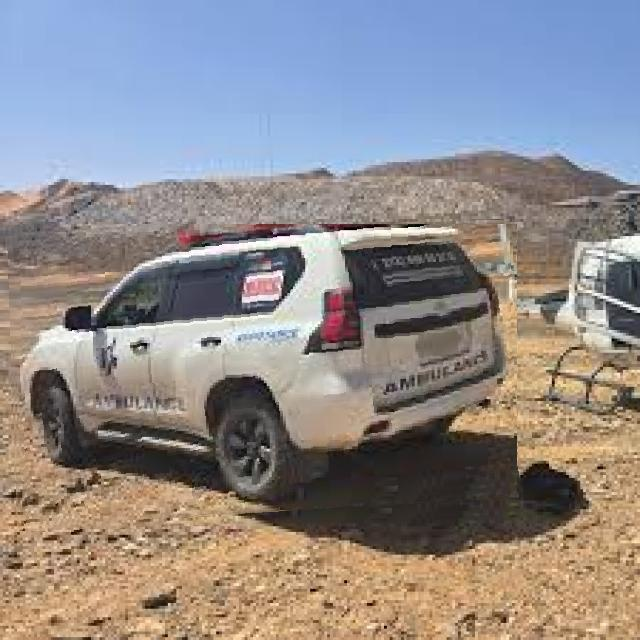ambulance: (10, 224, 517, 527)
